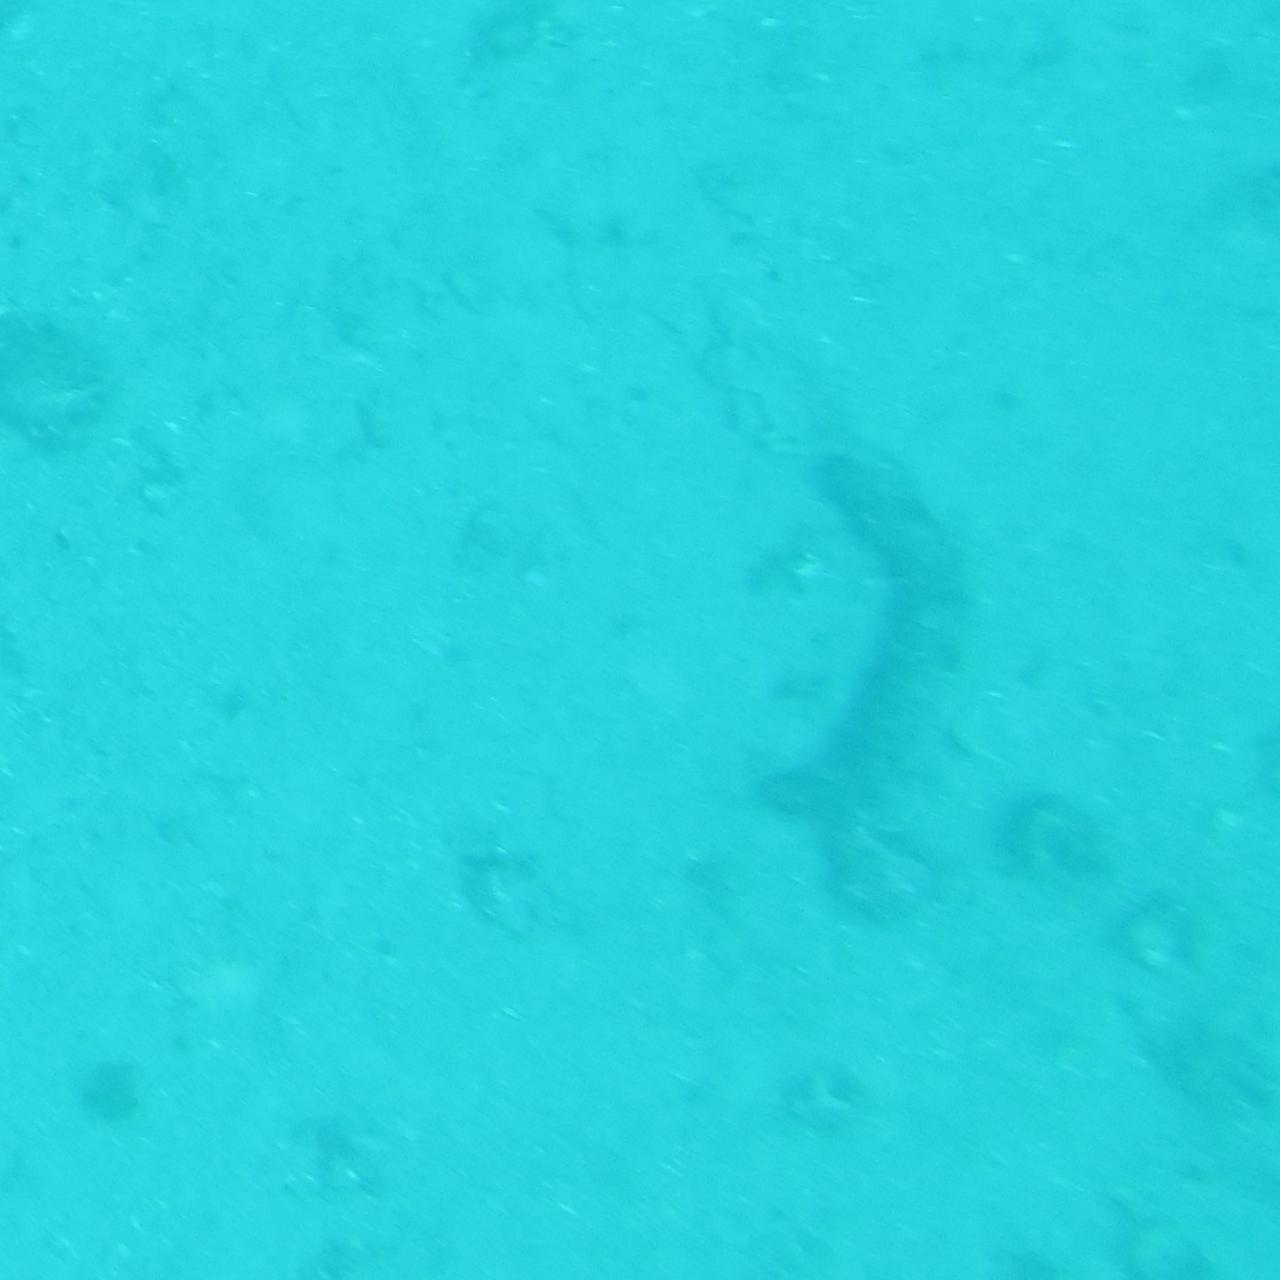Holothuria tubulosa: (735, 444, 994, 836)
